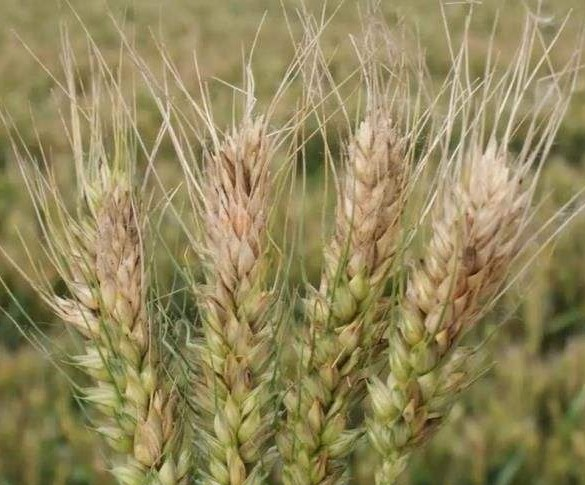Wheat scab: (45, 147, 184, 478), (406, 132, 548, 453), (290, 107, 402, 482), (184, 113, 283, 477)
